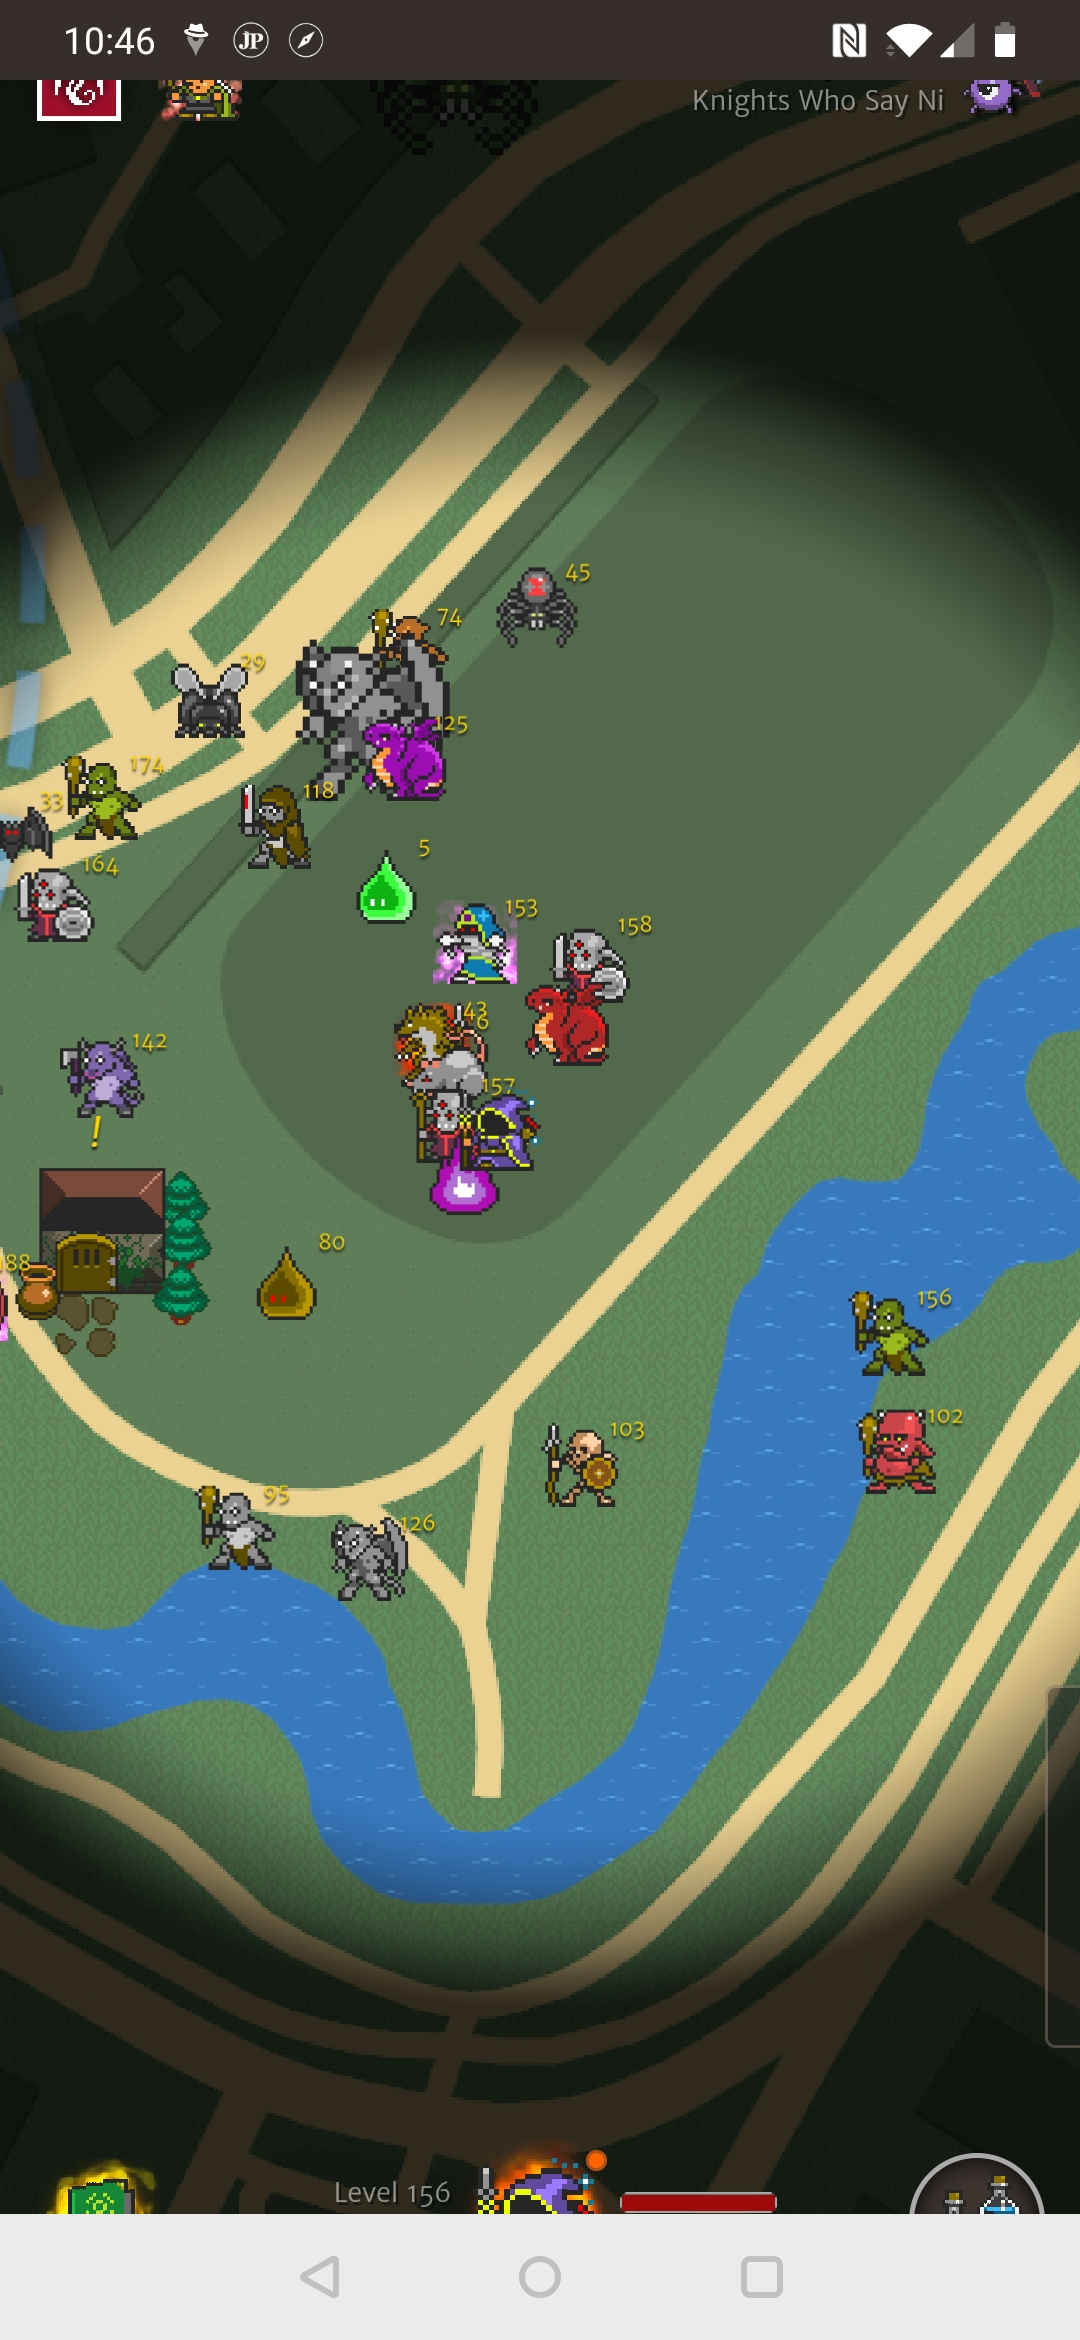monster: (188, 1482, 291, 1585), (484, 561, 584, 661), (53, 1030, 153, 1130), (63, 740, 157, 834), (543, 1420, 636, 1513), (850, 1406, 936, 1492), (843, 1292, 929, 1378), (236, 789, 322, 875), (22, 861, 108, 947), (150, 665, 236, 751), (326, 1516, 408, 1598), (346, 854, 426, 934), (253, 1247, 329, 1323)
player: (463, 1089, 542, 1168)
